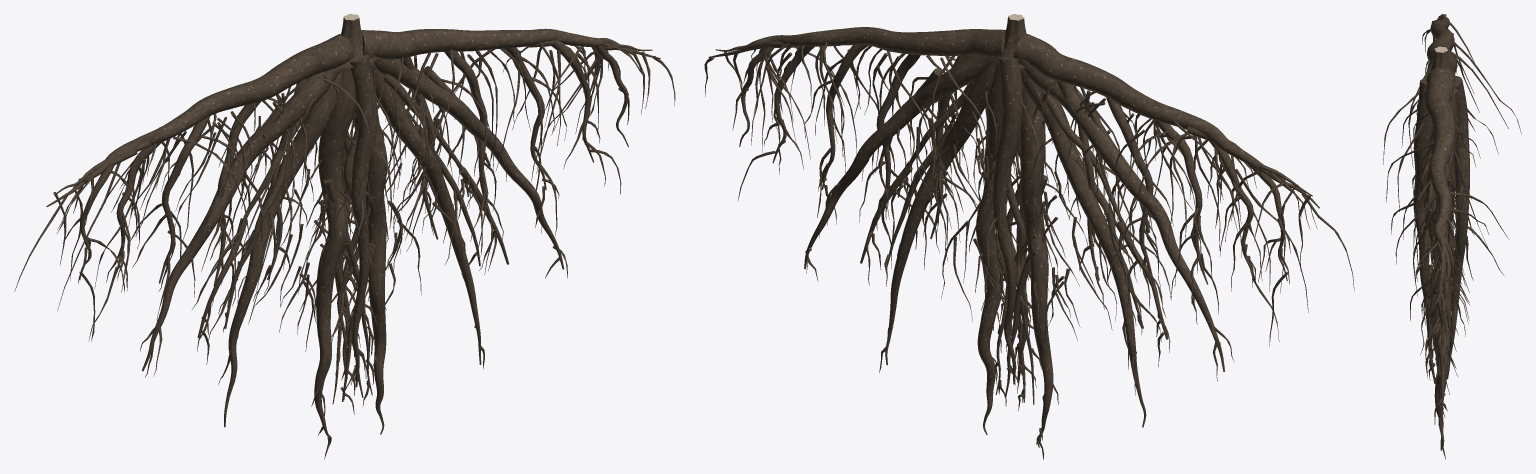
The model's file is realistic_tree_roots.fbx.
The picture shows the model from 3 angles, left to right: view 1: azimuth 30°, elevation 25°; view 2: azimuth 150°, elevation 25°; view 3: azimuth 270°, elevation 25°; orthographic projection. The views are drawn at different scales.
Parts seen in each view (by area): view 1: TreeRoots_Primary, TreeRoots_FineRootlets, TreeRoots_Secondary, Tree_Stump; view 2: TreeRoots_Primary, TreeRoots_FineRootlets, TreeRoots_Secondary, Tree_Stump; view 3: TreeRoots_Primary, TreeRoots_FineRootlets, TreeRoots_Secondary, Tree_Stump.
Boxes of the visible parts, x1=… form: TreeRoots_Primary: x1=72, y1=28, x2=633, y2=443; TreeRoots_FineRootlets: x1=14, y1=42, x2=675, y2=459; TreeRoots_Secondary: x1=46, y1=40, x2=660, y2=404; Tree_Stump: x1=338, y1=14, x2=375, y2=67; TreeRoots_Primary: x1=734, y1=27, x2=1294, y2=447; TreeRoots_FineRootlets: x1=704, y1=42, x2=1354, y2=459; TreeRoots_Secondary: x1=708, y1=40, x2=1319, y2=404; Tree_Stump: x1=992, y1=14, x2=1026, y2=68; TreeRoots_Primary: x1=1413, y1=17, x2=1469, y2=450; TreeRoots_FineRootlets: x1=1383, y1=14, x2=1521, y2=459; TreeRoots_Secondary: x1=1431, y1=14, x2=1451, y2=376; Tree_Stump: x1=1425, y1=46, x2=1458, y2=94.
Size of the model in its own units: 905 by 575 by 183.
